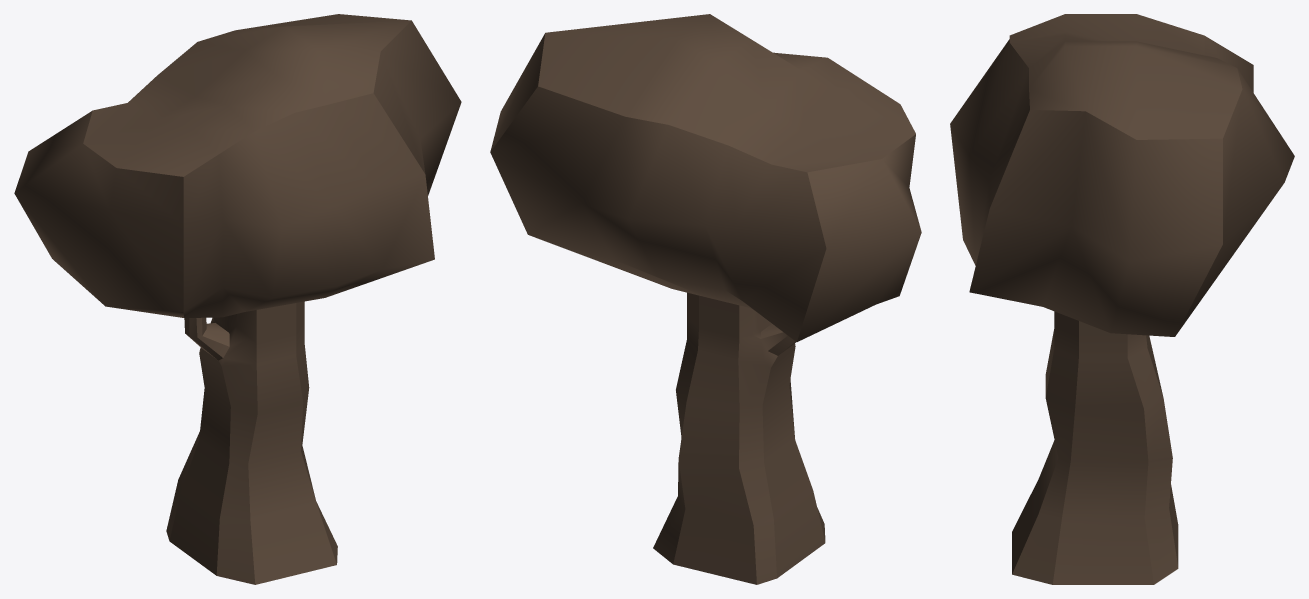
The model's file is TreeLeaf.fbx.
The picture shows the model from 3 angles, left to right: view 1: azimuth 30°, elevation 25°; view 2: azimuth 150°, elevation 25°; view 3: azimuth 270°, elevation 25°; orthographic projection. The views are drawn at different scales.
Parts seen in each view (by area): view 1: pCube82, pCube83; view 2: pCube82, pCube83; view 3: pCube82, pCube83.
Boxes of the visible parts, x1,y1,x2,y2 form: pCube82: (14,14,461,317); pCube83: (166,301,337,584); pCube82: (490,14,921,341); pCube83: (653,292,825,584); pCube82: (950,14,1294,336); pCube83: (1012,311,1178,584).
Size of the model in its own units: 8.35 by 9.19 by 5.41.
